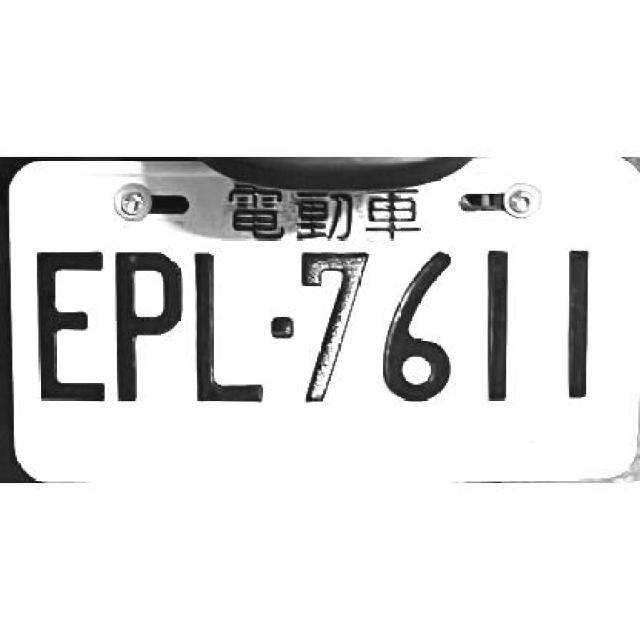-: (272, 317, 296, 337)
1: (483, 248, 514, 394), (566, 243, 592, 402)
6: (383, 245, 460, 409)
7: (299, 249, 366, 405)
E: (32, 244, 105, 398)
L: (192, 253, 270, 402)
P: (108, 248, 184, 404)
